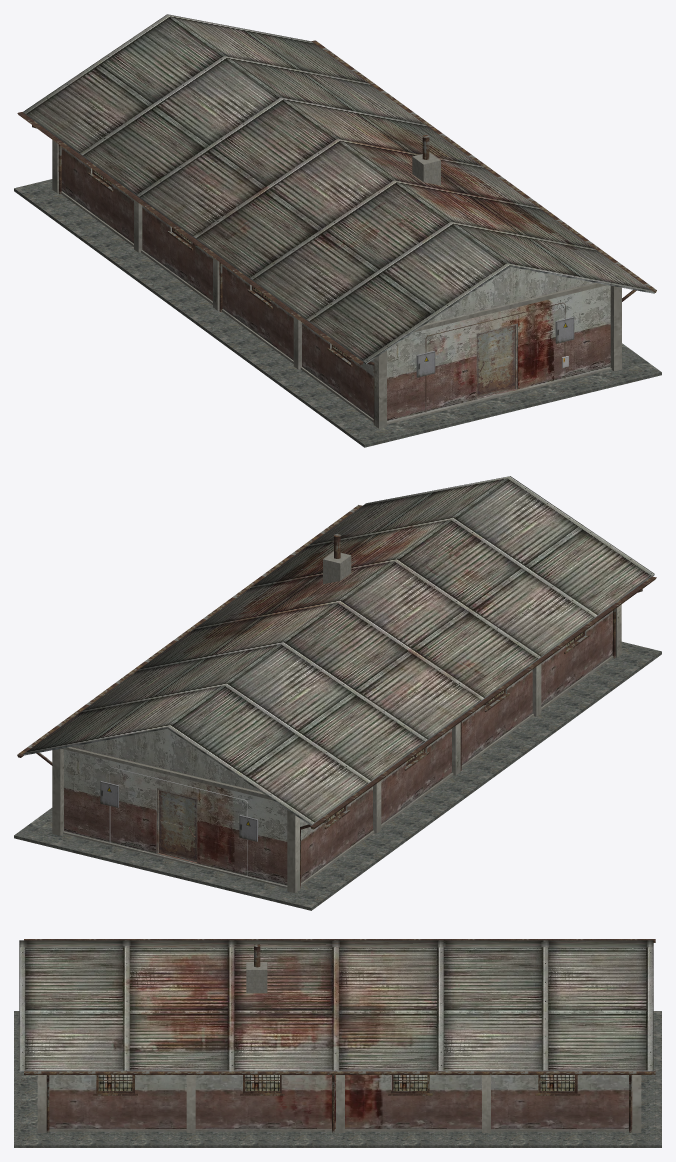
Rendered from urban_building_1.glb.
3 renders of one model, top to bottom at view 1: azimuth 30°, elevation 25°; view 2: azimuth 150°, elevation 25°; view 3: azimuth 270°, elevation 25°, orthographic. The views are drawn at different scales.
Parts seen in each view (by area): view 1: roof_roof_0, Extrude_1_Buildingface_0, Cube_11_Cube_floor_0, Merge_0_1_buildingtrim_0, windows2_windowstrim_0, door_2_1_door_0, elcbox_electricpanel_0; view 2: roof_roof_0, Extrude_1_Buildingface_0, Cube_11_Cube_floor_0, Merge_0_1_buildingtrim_0, windows2_windowstrim_0, door_2_1_door_0, elcbox_electricpanel_0; view 3: roof_roof_0, Extrude_1_Buildingface_0, Cube_11_Cube_floor_0, windows2_windowstrim_0, Merge_0_1_buildingtrim_0, windows_8_windows_0.
Boxes of the visible parts, x1,y1,x2,y2 form: roof_roof_0: (23, 14, 654, 363); Extrude_1_Buildingface_0: (61, 147, 610, 421); Cube_11_Cube_floor_0: (14, 179, 661, 447); Merge_0_1_buildingtrim_0: (52, 140, 621, 428); windows2_windowstrim_0: (17, 40, 656, 424); door_2_1_door_0: (477, 325, 515, 397); elcbox_electricpanel_0: (416, 317, 574, 377); roof_roof_0: (23, 476, 654, 825); Extrude_1_Buildingface_0: (64, 611, 612, 885); Cube_11_Cube_floor_0: (14, 641, 661, 910); Merge_0_1_buildingtrim_0: (52, 551, 621, 892); windows2_windowstrim_0: (17, 505, 656, 888); door_2_1_door_0: (159, 790, 197, 862); elcbox_electricpanel_0: (100, 781, 257, 841); roof_roof_0: (19, 940, 653, 1071); Extrude_1_Buildingface_0: (49, 1075, 632, 1129); Cube_11_Cube_floor_0: (14, 1011, 661, 1147); windows2_windowstrim_0: (24, 939, 655, 1132); Merge_0_1_buildingtrim_0: (37, 962, 641, 1132); windows_8_windows_0: (98, 1075, 574, 1090).
Size of the model in its own units: 1176 by 636 by 2396.
11 materials, 10 textured.
